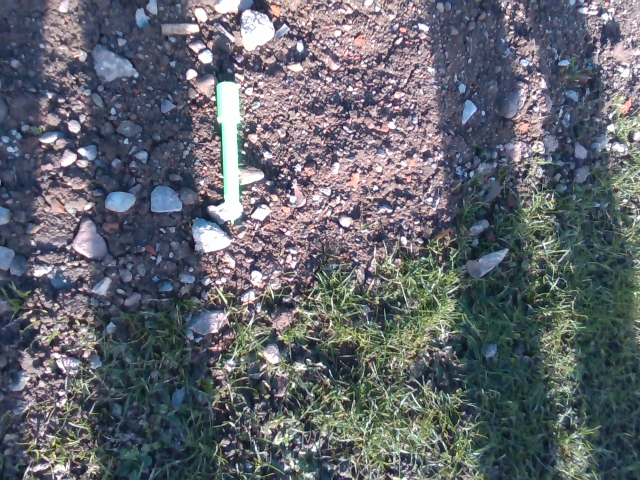Probe: (210, 74, 248, 218)
